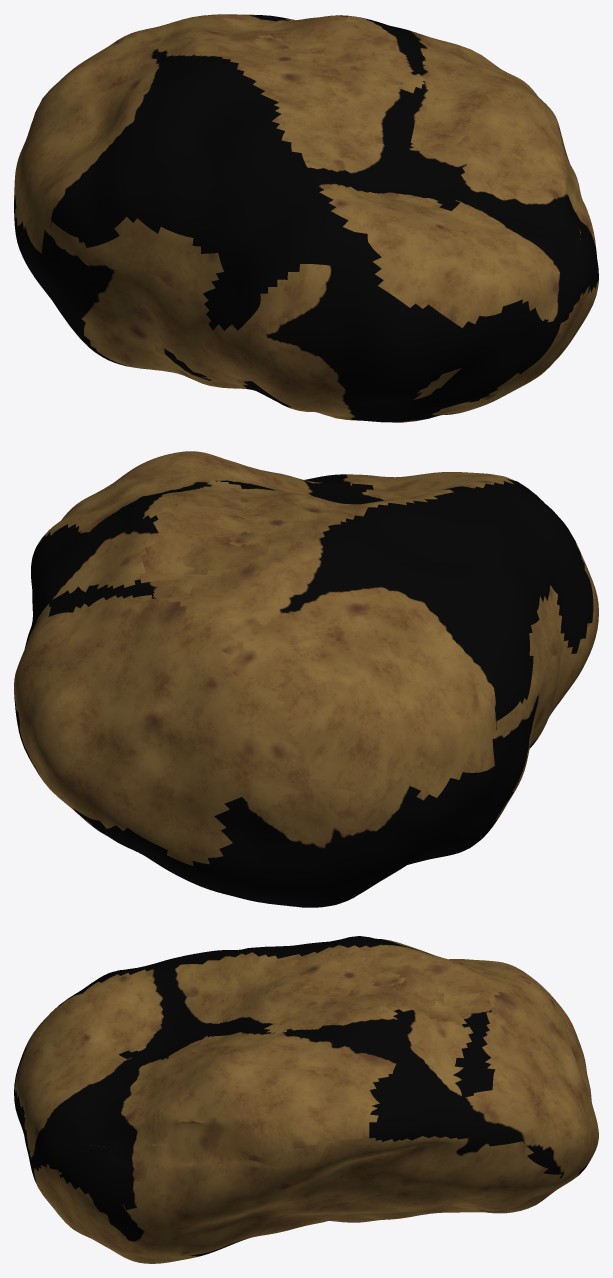
The picture shows the model from 3 angles, top to bottom: view 1: azimuth 30°, elevation 25°; view 2: azimuth 150°, elevation 25°; view 3: azimuth 270°, elevation 25°; orthographic projection. The views are drawn at different scales.
Visible parts, largest first — view 1: original_ico.013; view 2: original_ico.013; view 3: original_ico.013.
Part boxes in pixels (box(x1,y1,x2,y2)): original_ico.013: box(14, 14, 598, 422); original_ico.013: box(14, 451, 598, 907); original_ico.013: box(14, 936, 598, 1263).
Bounding box in the file's own units: 3.55 × 2.21 × 4.43.
